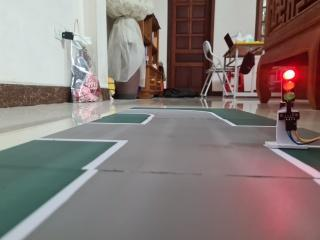red: (275, 62, 301, 115)
